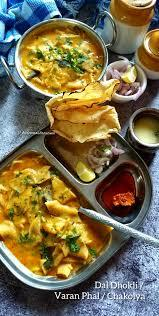roti phulka: (50, 86, 119, 141)
varan: (0, 151, 116, 275), (30, 24, 102, 86)
